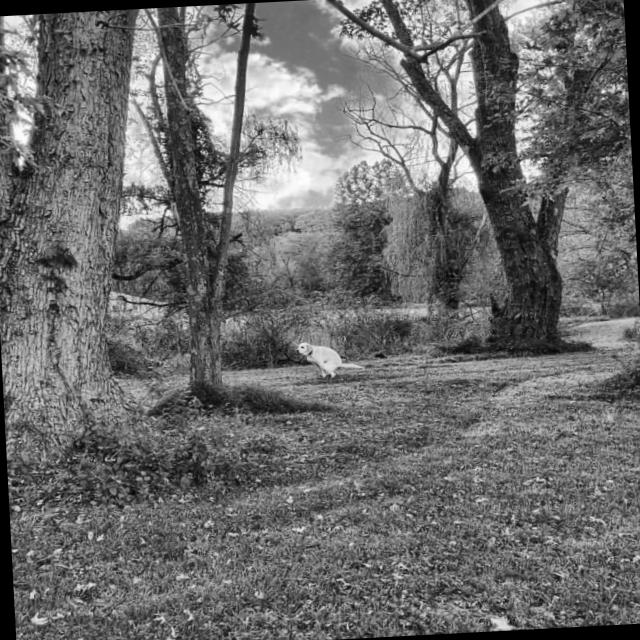squatting: (288, 334, 370, 384)
